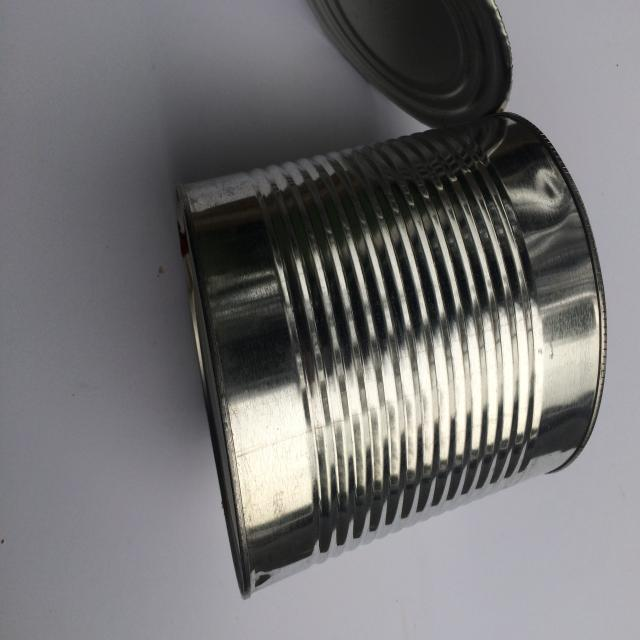metal: (130, 0, 618, 611)
